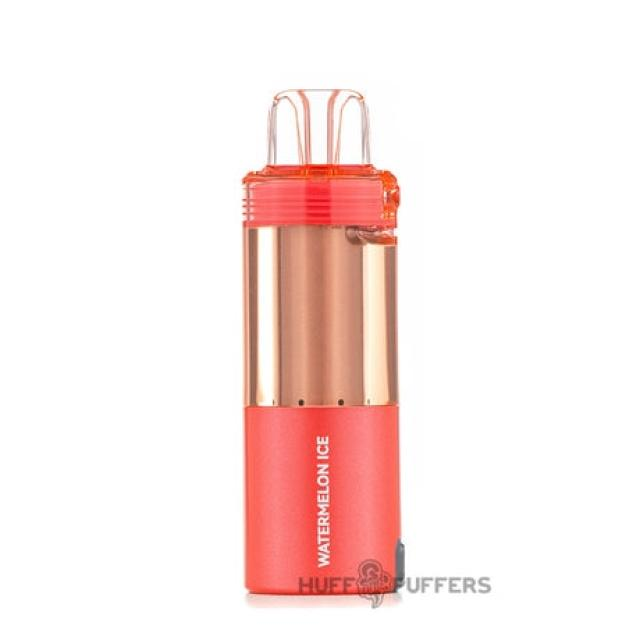Vape-images: (239, 86, 405, 604)
